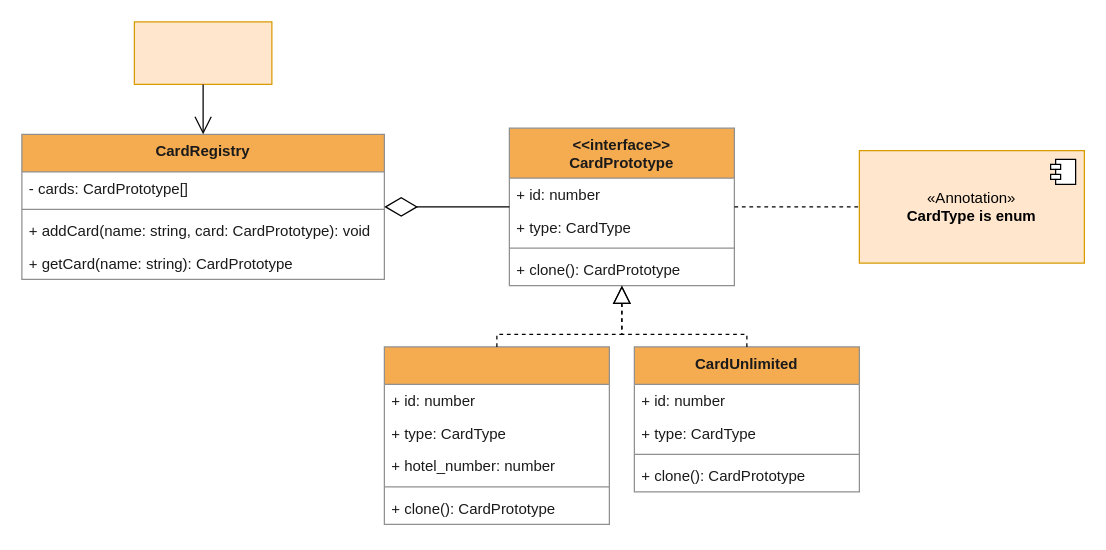
This 1106x550 diagram has some shape labels left out. Each missing label, with the box of its shape:
CardKey: (383, 346, 609, 524)
Client: (133, 21, 272, 84)
